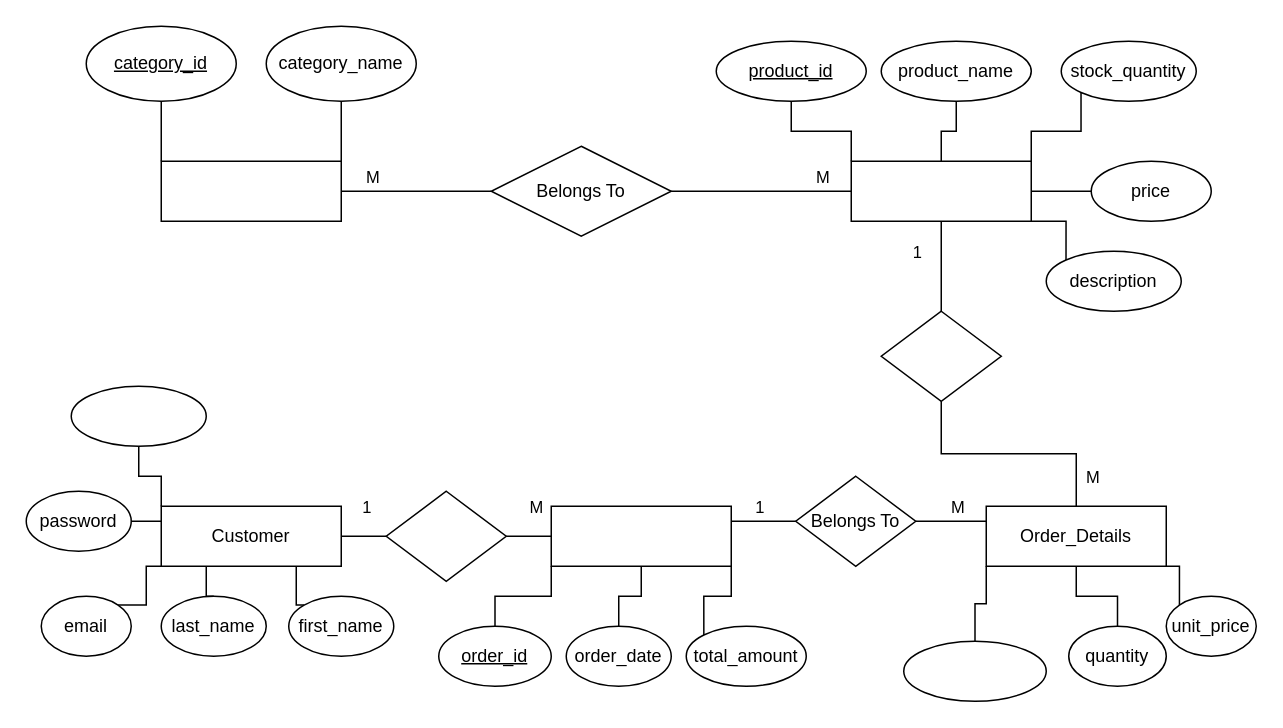
Some shapes in this 1283 by 728 pixel diagram are drawn without their labels. Here are the shapes that lost their labels. From the top down, the box of each, then its label:
(160, 160, 341, 221): Category
(850, 160, 1031, 221): Product
(880, 310, 1001, 401): For
(70, 385, 206, 446): customer_id
(385, 490, 506, 581): Makes
(550, 505, 731, 566): Order
(902, 640, 1046, 701): order_detail_id
